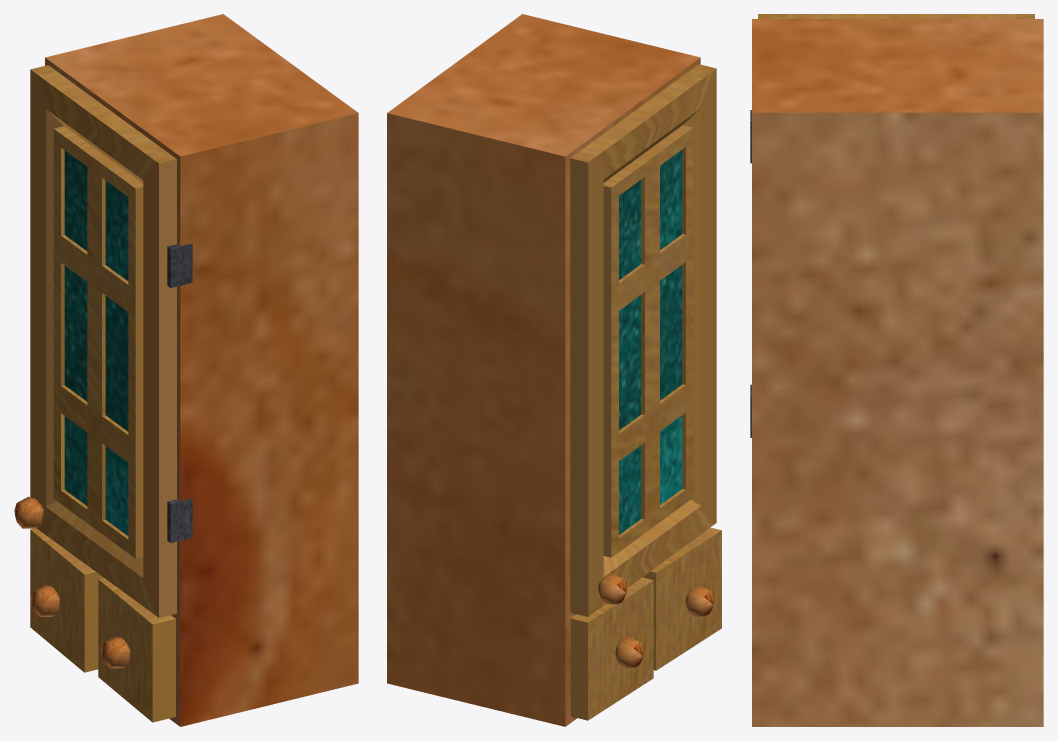
Rendered from kitchen  wall store3.FBX.
3 renders of one model, left to right at view 1: azimuth 30°, elevation 25°; view 2: azimuth 150°, elevation 25°; view 3: azimuth 270°, elevation 25°, orthographic. The views are drawn at different scales.
Parts seen in each view (by area): view 1: Box001, Object003, Object005, Object007, Object006, Box002, Object002, w001, w; view 2: Box001, Object003, Object005, Object006, Object007, Object002, w001, w; view 3: Box001, Object003.
Boxes of the visible parts, bbox=[...] form: Box001: bbox=[45, 14, 358, 726]; Object003: bbox=[30, 65, 176, 617]; Object005: bbox=[64, 150, 128, 535]; Object007: bbox=[98, 578, 175, 722]; Object006: bbox=[30, 528, 103, 672]; Box002: bbox=[167, 243, 192, 542]; Object002: bbox=[14, 496, 44, 528]; w001: bbox=[101, 636, 130, 668]; w: bbox=[31, 585, 59, 616]; Box001: bbox=[387, 14, 700, 726]; Object003: bbox=[570, 64, 716, 616]; Object005: bbox=[619, 150, 682, 534]; Object006: bbox=[570, 577, 653, 720]; Object007: bbox=[642, 527, 721, 670]; Object002: bbox=[597, 572, 626, 604]; w001: bbox=[685, 584, 714, 616]; w: bbox=[615, 636, 643, 667]; Box001: bbox=[752, 19, 1043, 726]; Object003: bbox=[758, 14, 1034, 18].
Size of the model in its own units: 41.79 by 102 by 44.06.
Materials: 5 (5 with a texture image).
